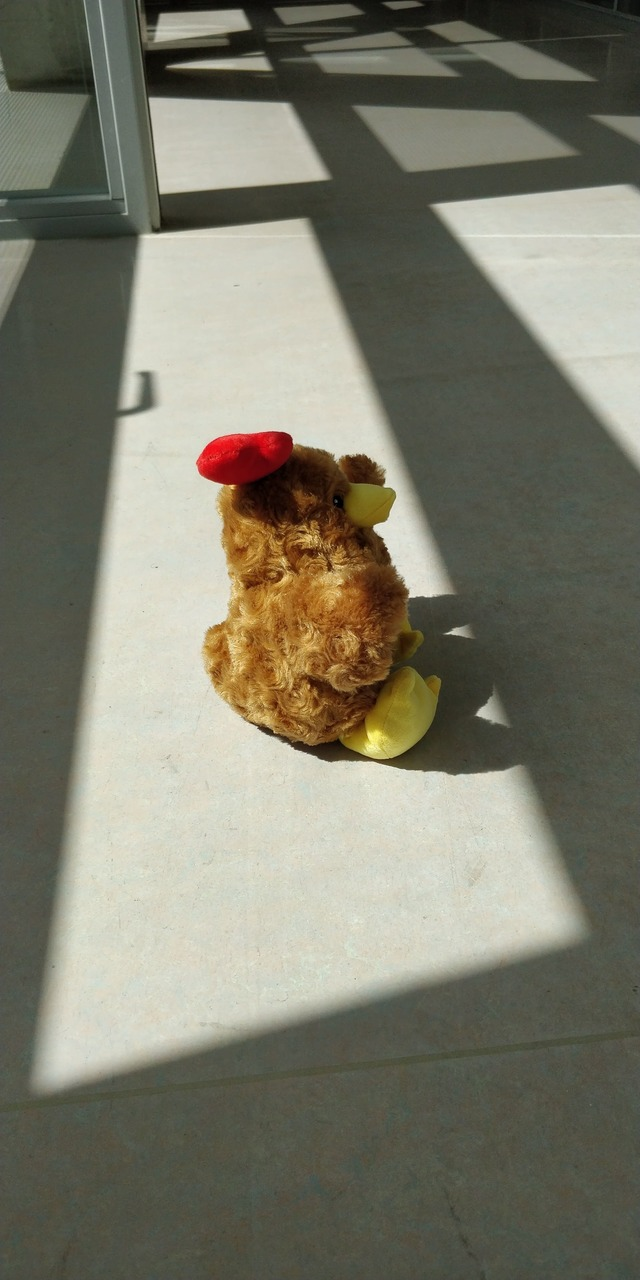fakeChicken: (196, 429, 443, 761)
